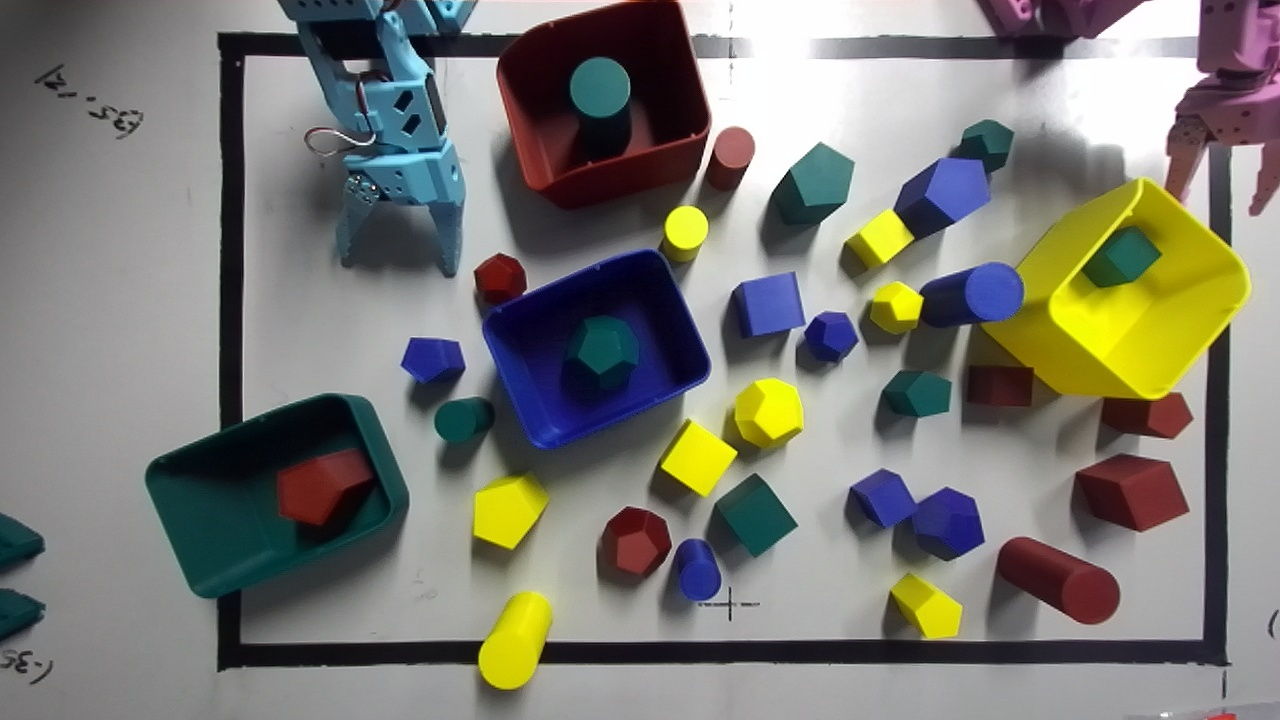bin: (962, 178, 1249, 399), (145, 394, 408, 597), (482, 249, 709, 448), (496, 0, 710, 208)
cube: (1075, 454, 1188, 531), (714, 474, 796, 555), (657, 419, 737, 496), (731, 272, 805, 337), (1083, 226, 1160, 287), (845, 209, 913, 268), (849, 469, 915, 527), (965, 365, 1033, 406)
cylinder: (996, 537, 1119, 623), (478, 591, 551, 689), (919, 262, 1024, 327), (569, 57, 630, 158), (706, 127, 754, 190), (675, 539, 721, 601), (434, 397, 494, 441), (660, 206, 707, 262)
dodecahedron: (565, 315, 639, 391), (911, 487, 984, 559), (601, 506, 670, 576), (734, 378, 802, 447), (950, 119, 1013, 174), (473, 253, 526, 305), (870, 281, 922, 333), (805, 311, 858, 362)
hexagonal: (894, 157, 990, 238), (277, 449, 373, 526), (771, 143, 853, 224), (473, 472, 548, 549), (890, 573, 962, 638), (1101, 392, 1192, 438), (882, 370, 950, 416), (401, 337, 465, 382)
